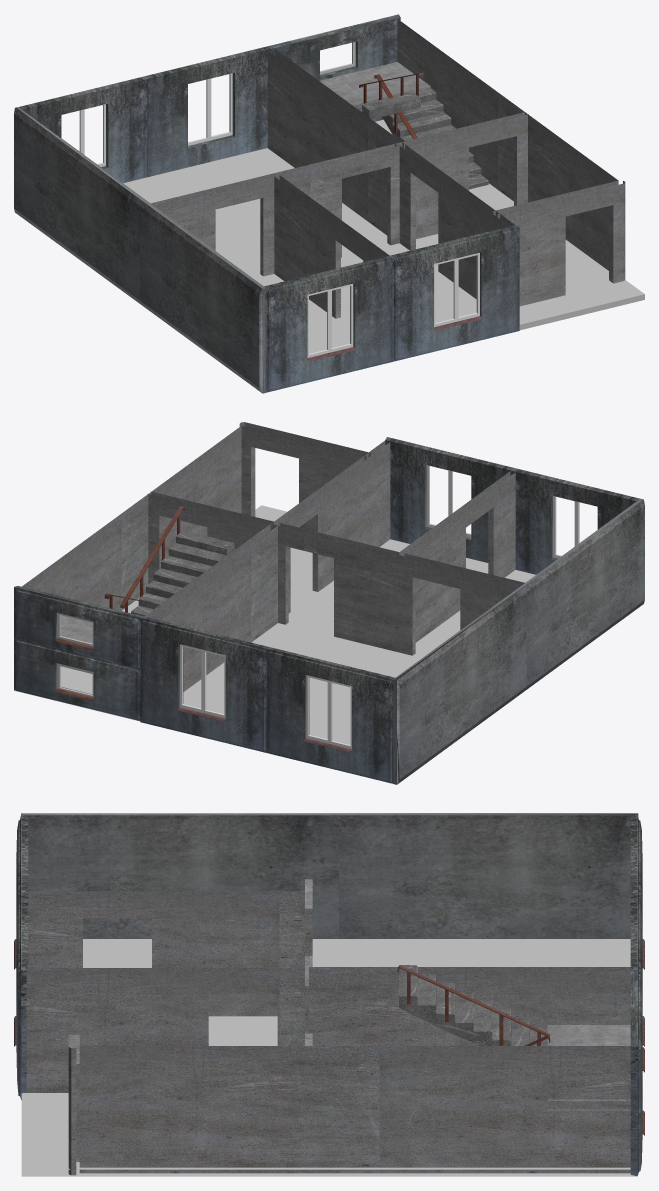
File: parts.gltf
3 views of the same model, one above another, from view 1: azimuth 30°, elevation 25°; view 2: azimuth 150°, elevation 25°; view 3: azimuth 270°, elevation 25° (orthographic). The views are drawn at different scales.
Parts seen in each view (by area): view 1: Plane104, Box407, Box318, Plane112, Plane008, Box349, Box348, Box351; view 2: Plane104, Box407, Box318, Plane112, Plane008, Box349, Box351, Box408, Box348; view 3: Plane104, Box318, Plane112, Box407, Box349, Box348, Box351.
Part boxes in pixels (x1,y1,x2,y2): Plane104: (151, 19, 625, 318); Box407: (19, 14, 519, 392); Box318: (14, 107, 265, 393); Plane112: (123, 119, 644, 353); Plane008: (61, 42, 479, 357); Box349: (353, 87, 488, 189); Box348: (319, 62, 430, 105); Box351: (359, 72, 423, 138); Plane104: (22, 422, 524, 691); Box407: (14, 437, 639, 783); Box318: (393, 498, 644, 784); Plane112: (15, 505, 535, 744); Plane008: (57, 465, 587, 749); Box349: (131, 530, 234, 616); Box351: (104, 506, 185, 612); Box408: (55, 638, 351, 752); Box348: (60, 615, 92, 643); Plane104: (26, 879, 630, 1175); Box318: (21, 813, 638, 938); Plane112: (21, 939, 636, 1176); Box407: (16, 815, 642, 1176); Box349: (399, 965, 547, 1045); Box348: (547, 1025, 630, 1110); Box351: (397, 965, 550, 1045).
Bounding box in the file's own units: 10.02 × 3.31 × 11.38.
Materials: 7 (5 with a texture image).
